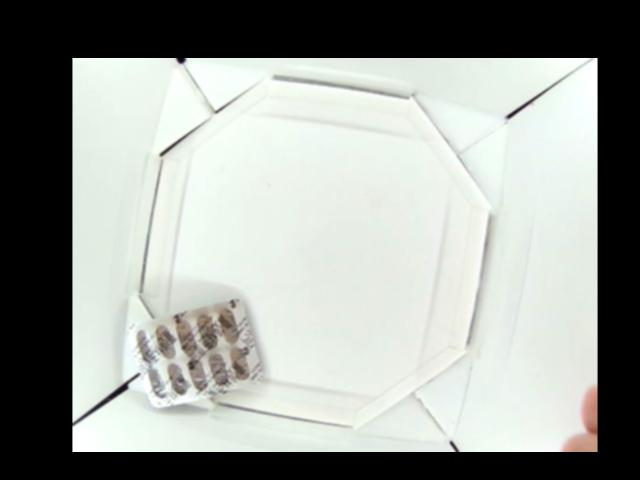Medicine: (129, 296, 266, 410)
